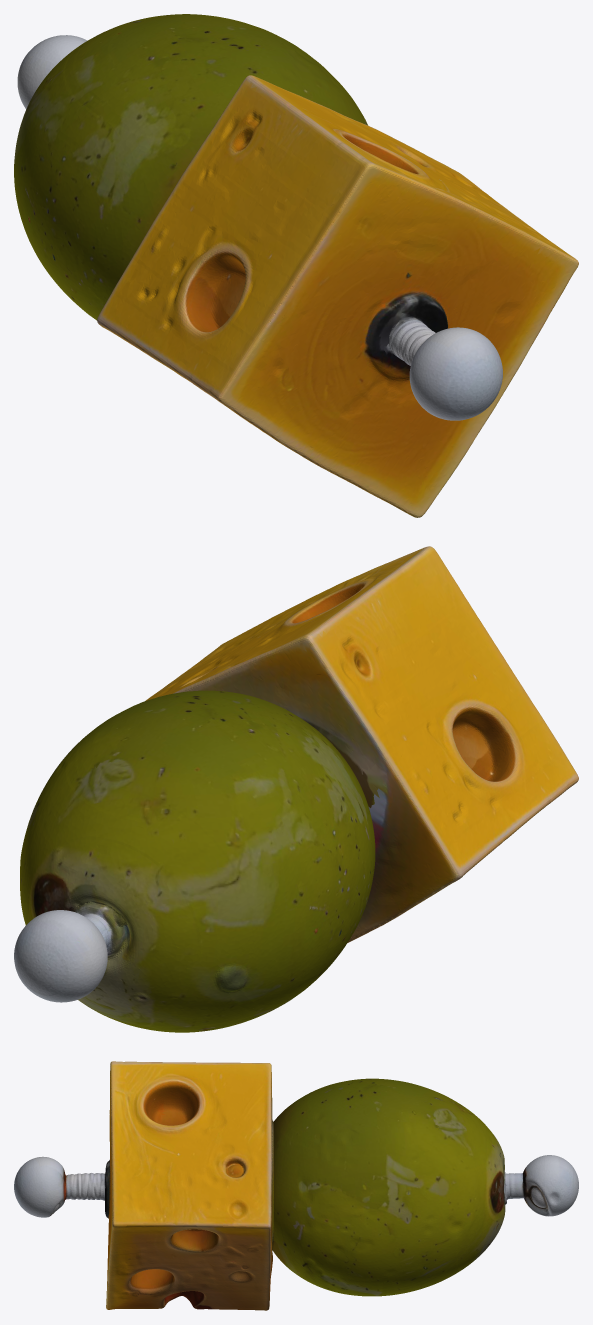
File: kase_weintraube.glb
The picture shows the model from 3 angles, top to bottom: view 1: azimuth 30°, elevation 25°; view 2: azimuth 150°, elevation 25°; view 3: azimuth 270°, elevation 25°; orthographic projection. The views are drawn at different scales.
Visible parts, largest first — view 1: tripo_node_d53a0175-258c-4d5a-a8ee-3fbf4cd4226a; view 2: tripo_node_d53a0175-258c-4d5a-a8ee-3fbf4cd4226a; view 3: tripo_node_d53a0175-258c-4d5a-a8ee-3fbf4cd4226a.
Part boxes in pixels (<box>): tripo_node_d53a0175-258c-4d5a-a8ee-3fbf4cd4226a: <box>14,14,578,517</box>; tripo_node_d53a0175-258c-4d5a-a8ee-3fbf4cd4226a: <box>14,546,578,1032</box>; tripo_node_d53a0175-258c-4d5a-a8ee-3fbf4cd4226a: <box>14,1061,578,1310</box>.
Bounding box in the file's own units: 3.75 × 3.57 × 7.82.
1 material, 1 textured.
